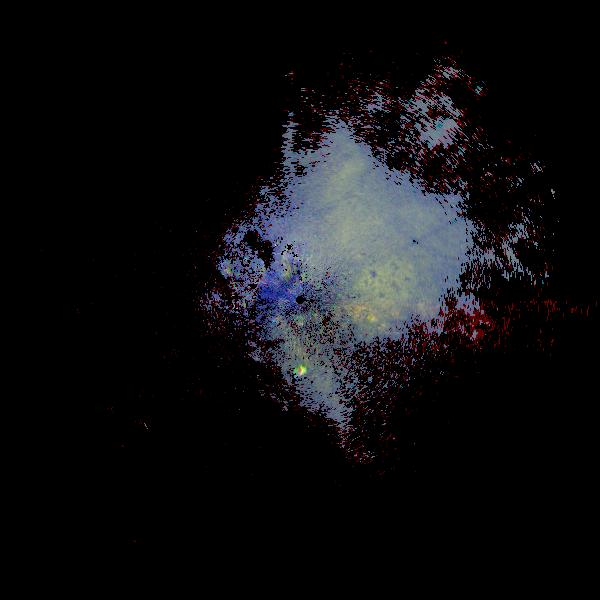roost: (293, 365, 311, 383)
